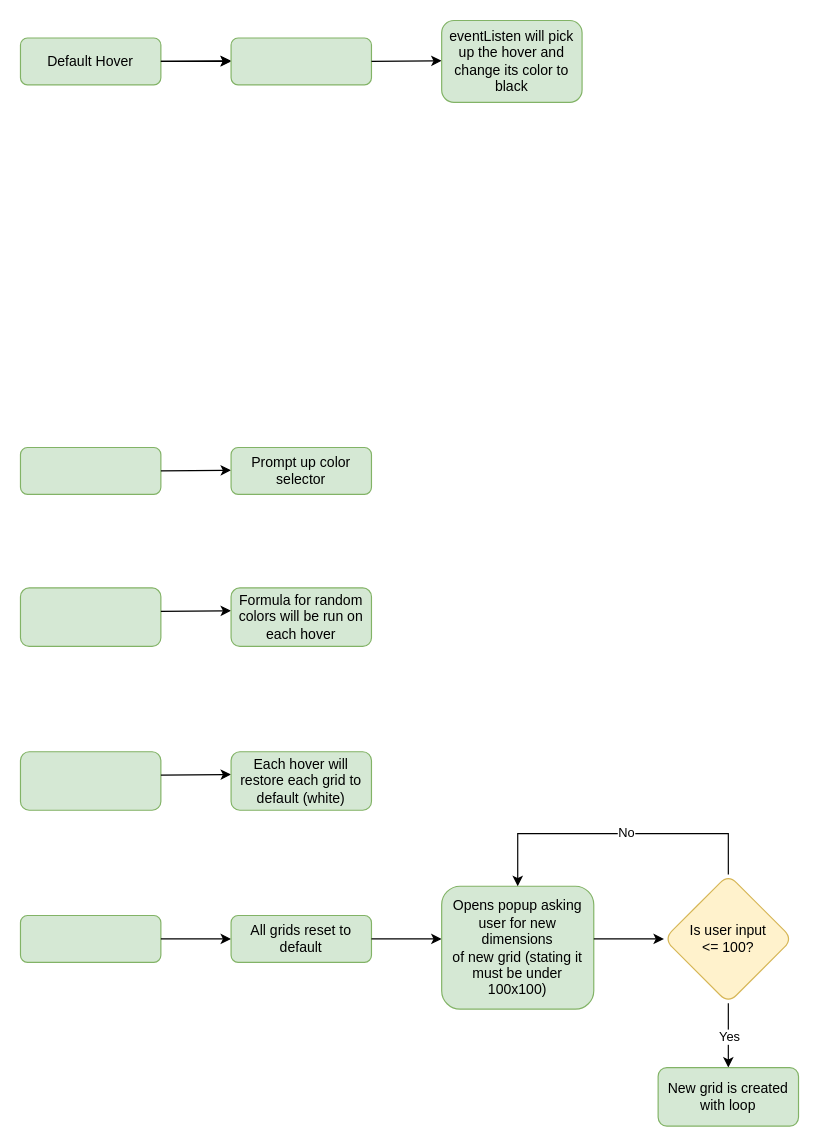
Image size: 819x1147. Some labels were removed from this diagram. Each missing label, with the centre of its shape:
"Clear Button Clicked" belongs at (x=90, y=938).
"Color Mode Button Clicked" belongs at (x=90, y=470).
"Eraser Button Clicked" belongs at (x=90, y=780).
"Rainbow Mode Button Clicked" belongs at (x=90, y=616).
"User hovers mouse over space" belongs at (x=300, y=61).
